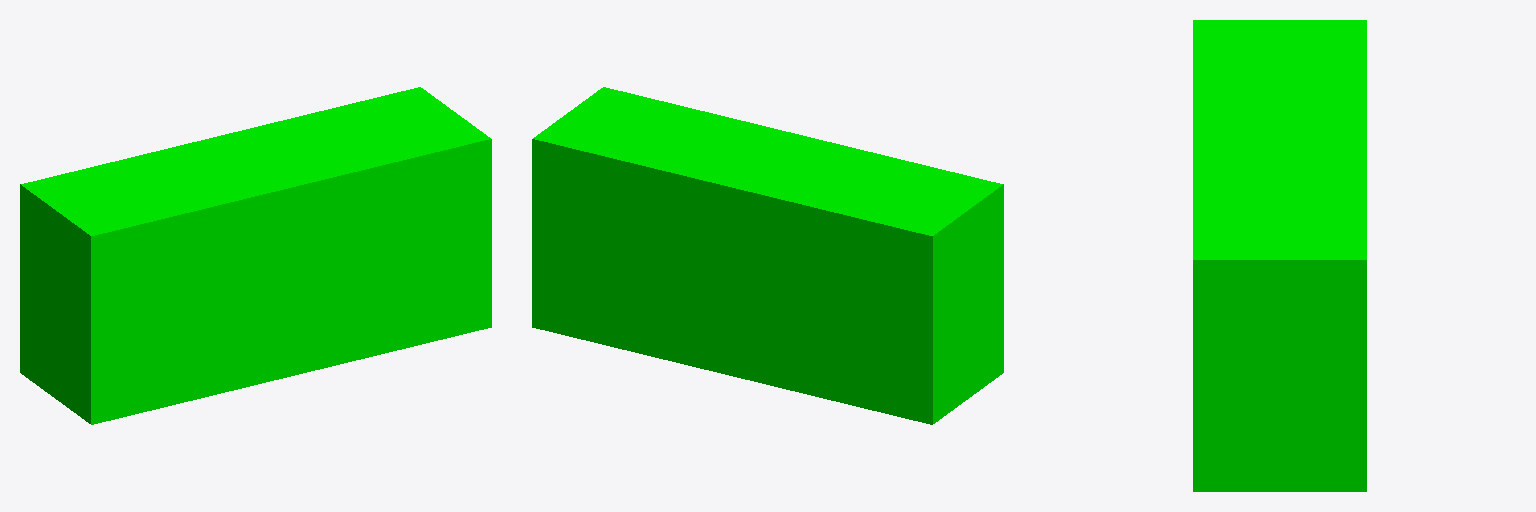
URDF robot description (carma_srx):
<?xml version="1.0"?>
<!--
  Copyright (C) 2018-2019 LEIDOS.

  Licensed under the Apache License, Version 2.0 (the "License"); you may not
  use this file except in compliance with the License. You may obtain a copy of
  the License at

  http://www.apache.org/licenses/LICENSE-2.0

  Unless required by applicable law or agreed to in writing, software
  distributed under the License is distributed on an "AS IS" BASIS, WITHOUT
  WARRANTIES OR CONDITIONS OF ANY KIND, either express or implied. See the
  License for the specific language governing permissions and limitations under
  the License.
-->
<!-- Green Cadillac Robot Description File
    This file defines the static transformations of the CAV platform operating on the green cadillac.
    These are only example values at this time. This is to test if it works
-->
<robot name="carma_srx">
  <!-- Frames -->
  <link name="base_link" /> <!-- Back Axle -->
  <link name="host_vehicle"/> <!-- Bounding box center of vehicle (used in BSM)-->
  <link name="aabb_center"> <!-- Center of the car's axis aligned bounding box -->
      <!-- Simple visual to draw box around car transforms  in rviz -->
    <visual>
      <origin xyz="0 0 0" rpy="0 0 0" />
      <geometry>
        <box size="4.88 1.5 2.2" />
      </geometry>
      <material name="Green">
        <color rgba="0.0 1.0 0.0 1.0"/>
      </material>
    </visual>
  </link>
  <link name="vehicle_front" /> <!-- Center of vehicle grill -->
  <link name="pinpoint" /> <!-- Position Sensor (Accounting for internal transforms) -->
  <!-- Radars -->
  <link name="f_lrr_frame"/> <!-- Front Long Range Radar -->
  <link name="rf_srr_frame"/> <!-- Right Front Short Range Radar -->
  <link name="lf_srr_frame"/> <!-- Left Front Short Range Radar -->
  <link name="r_srr_frame"/> <!-- Right Short Range Radar -->
  <!-- Cameras -->
  <link name="vision_frame"/> <!-- Forward facing camera -->

   <!-- base_link -> host_vehicle Transform -->
  <joint name="base_link_to_host_vehicle" type="fixed">
    <parent link="base_link" />
    <child link="host_vehicle" />
    <!-- Arguments (x y z roll pitch yaw) -->
    <!-- Units: Meters and Rad-->
    <origin xyz="1.524 0 -0.3556" rpy="3.14159265359 0 0" />
  </joint>

  <!-- host_vehicle -> aabb_center Transform -->
  <joint name="host_vehicle_to_aabb_center" type="fixed">
    <parent link="host_vehicle" />
    <child link="aabb_center" />
    <!-- Arguments (x y z roll pitch yaw) -->
    <!-- Units: Meters and Rad-->
    <origin xyz="0 0 -1.1" rpy="3.14159265359 0 0" />
  </joint>

  <!-- host_vehicle -> vehicle_front Transform vehicle_front is FLU-->
  <joint name="host_vehicle_to_vehicle_front" type="fixed">
    <parent link="host_vehicle" />
    <child link="vehicle_front" />
    <origin xyz="2.4384 0 0" rpy="3.14159265359 0 0" />
  </joint>

  <!--base_link is center of rear axle FLU oriented x down the longitudinal axis of the vehicle-->
  <joint name="base_link_pinpoint" type="fixed">
    <parent link="base_link" />
    <child link="pinpoint" />
    <origin xyz="0 0 0" rpy="3.14159265359 0 0" />
  </joint>

  <!-- base_link -> f_lrr_frame Transform -->
  <joint name="rear_link_f_lrr_frame" type="fixed">
    <parent link="base_link"/>
    <child link="f_lrr_frame"/>
    <origin xyz="3.7 0 0.43" rpy="0 0 0" />
  </joint>

  <!-- base_link -> rf_srr_frame Transform -->
  <joint name="rear_link_rf_srr_frame" type="fixed">
    <parent link="base_link"/>
    <child link="rf_srr_frame"/>
    <origin xyz="3.73 -0.39 0.2" rpy="0 0 -0.09" />
  </joint>

  <!-- base_link -> lf_srr_frame Transform -->
  <joint name="rear_link_lf_srr_frame" type="fixed">
    <parent link="base_link"/>
    <child link="lf_srr_frame"/>
    <origin xyz="3.73 0.39 0.2" rpy="0 0 0.09" />
  </joint>

  <!-- base_link -> r_srr_frame Transform -->
  <joint name="rear_link_r_srr_frame" type="fixed">
    <parent link="base_link"/>
    <child link="r_srr_frame"/>
    <origin xyz="-0.95 0.19 0.31" rpy="0 0 3.1" />
  </joint>

  <!-- base_link -> vision_frame Transform -->
  <joint name="rear_link_vision_frame" type="fixed">
    <parent link="base_link"/>
    <child link="vision_frame"/>
    <origin xyz="1.94 -0.1 1.07" rpy="0 0 0" />
  </joint>
</robot>

--- What the picture shows (computed from the rendered views, not written in the file) ---
Views: 3 orthographic renders of the robot side by side, from view 1: azimuth 30°, elevation 25°; view 2: azimuth 150°, elevation 25°; view 3: azimuth 270°, elevation 25°.
Model carma_srx with 10 links and 9 joints (9 fixed), rooted at base_link, posed all joints at 0.
Links seen in each view (by area): view 1: aabb_center; view 2: aabb_center; view 3: aabb_center.
Boxes of the visible links, bbox=[...] form: aabb_center: bbox=[20, 87, 491, 424]; aabb_center: bbox=[532, 87, 1003, 424]; aabb_center: bbox=[1193, 20, 1366, 491].
Bounding box of the posed robot: 4.88 × 1.5 × 2.2 m (x, y, z).
Geometry: primitives only (box / cylinder / sphere), no mesh files.